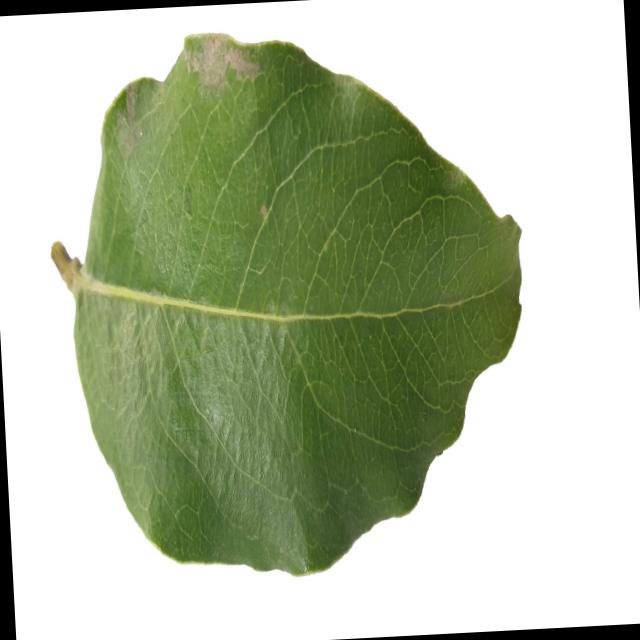Medicinal-Sandalwood: (40, 16, 538, 586)
